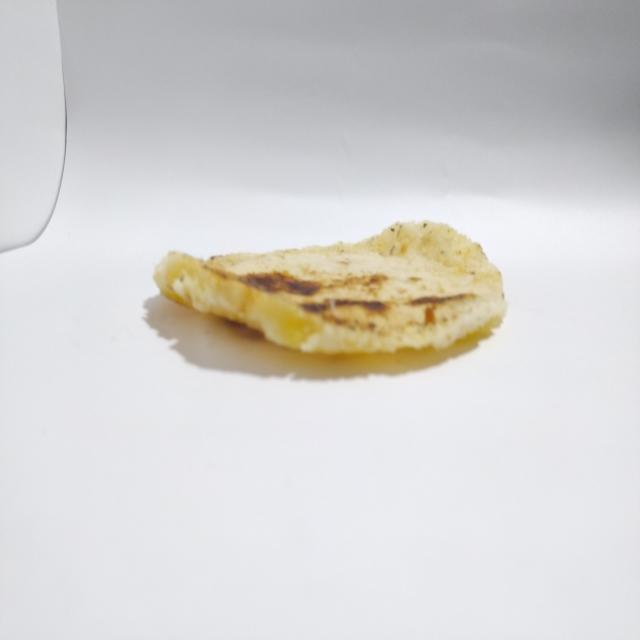Food: (138, 198, 515, 372)
